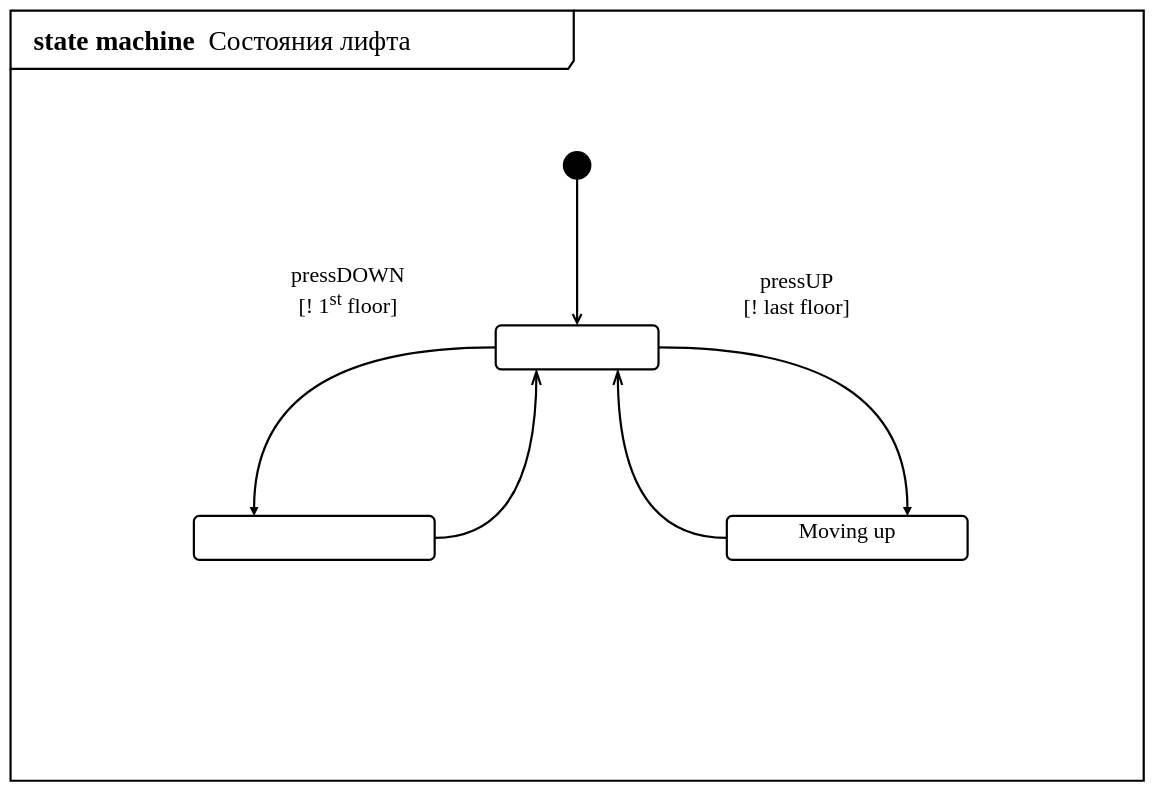
Some shapes in this 1154 by 791 pixel diagram are drawn without their labels. The centre of each missing label's shape, as x and y in pixels:
"Idle" goes at pixel 576 347.
"Moving down" goes at pixel 314 538.
